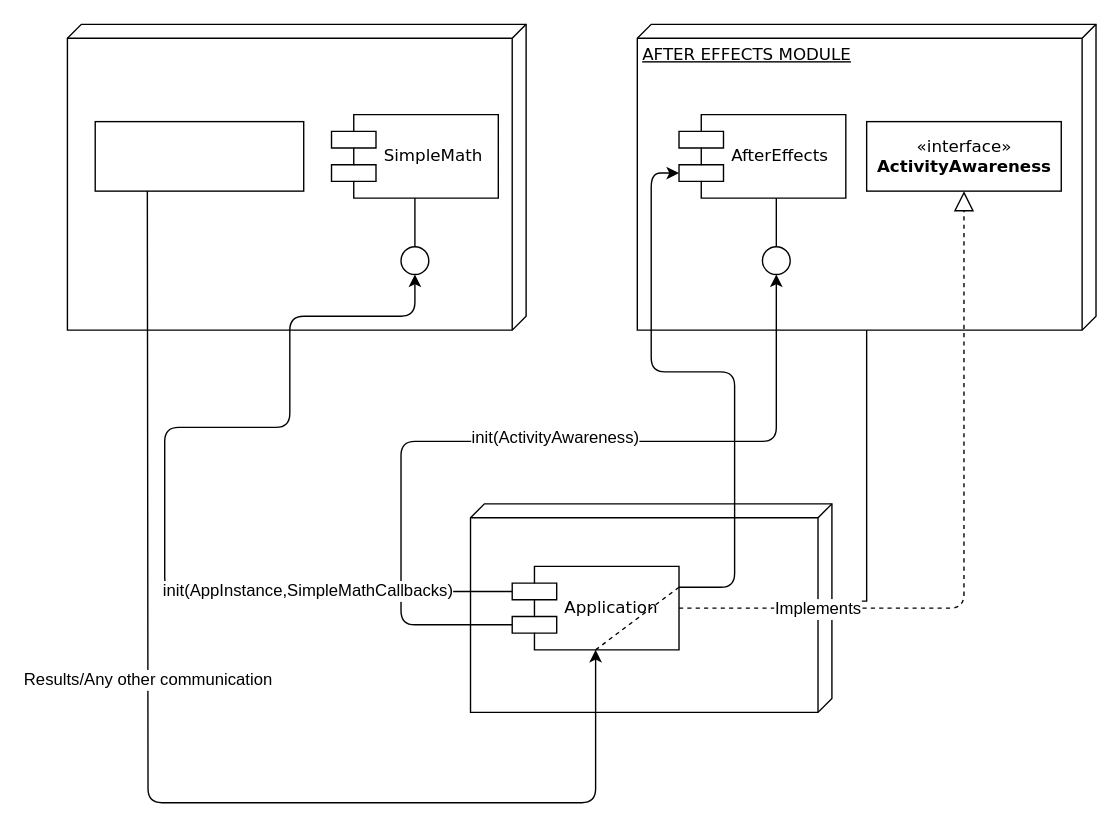
This 1120x838 diagram has some shape labels left out. The box of each missing label's shape, as (x1, y1, x2, y2) in pixels:
Main Android App: (469, 502, 832, 712)
SIMPLE MATH MODULE: (66, 23, 526, 330)
«interface» SimpleMathCallbacks: (94, 120, 304, 191)
